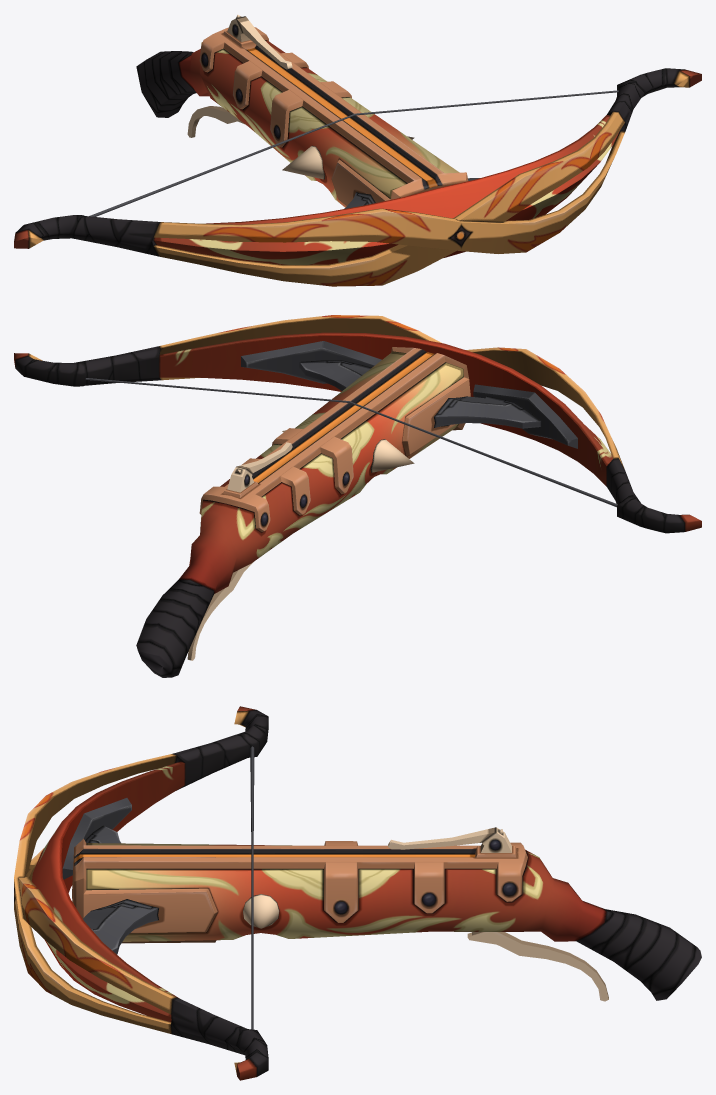
Rendered from Crossbow.dae.
3 views of the same model, one above another, from view 1: azimuth 30°, elevation 25°; view 2: azimuth 150°, elevation 25°; view 3: azimuth 270°, elevation 25° (orthographic). The views are drawn at different scales.
Parts seen in each view (by area): view 1: MonEquip_Crossbow_01_Model; view 2: MonEquip_Crossbow_01_Model; view 3: MonEquip_Crossbow_01_Model.
Part boxes in pixels (x1,y1,x2,y2): MonEquip_Crossbow_01_Model: (14, 14, 701, 286); MonEquip_Crossbow_01_Model: (14, 315, 701, 677); MonEquip_Crossbow_01_Model: (14, 706, 701, 1080).
Bounding box in the file's own units: 1.04 × 0.8272 × 0.2275.
Materials: 1 (1 with a texture image).
